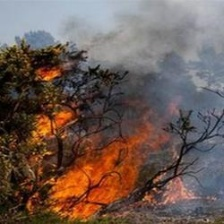fire: (51, 142, 139, 217), (34, 104, 76, 138), (34, 64, 63, 79)
smoke: (134, 16, 195, 90)
